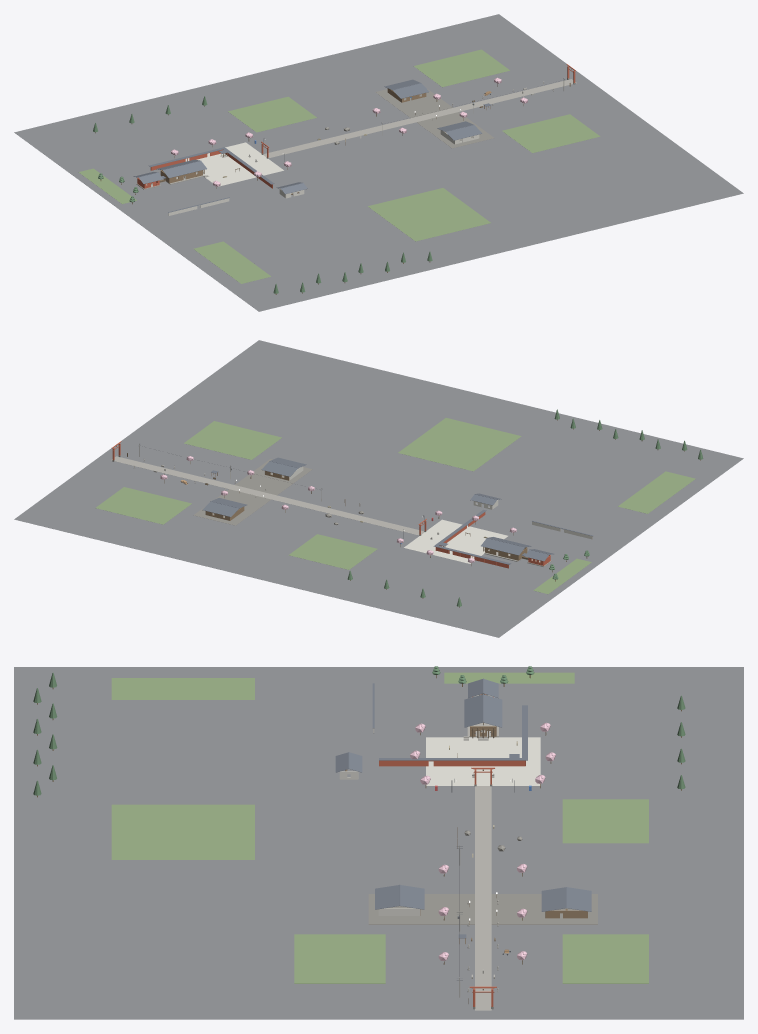
The model's file is zone_1.glb.
The picture shows the model from 3 angles, top to bottom: view 1: azimuth 30°, elevation 25°; view 2: azimuth 150°, elevation 25°; view 3: azimuth 270°, elevation 25°; orthographic projection. The views are drawn at different scales.
Visible parts, largest first — view 1: zone_akitsu_z1; view 2: zone_akitsu_z1; view 3: zone_akitsu_z1.
Boxes of the visible parts, x1,y1,x2,y2 form: zone_akitsu_z1: (14,14,743,311); zone_akitsu_z1: (14,340,743,637); zone_akitsu_z1: (14,666,743,1019).
Bounding box in the file's own units: 320 × 9.81 × 280.
